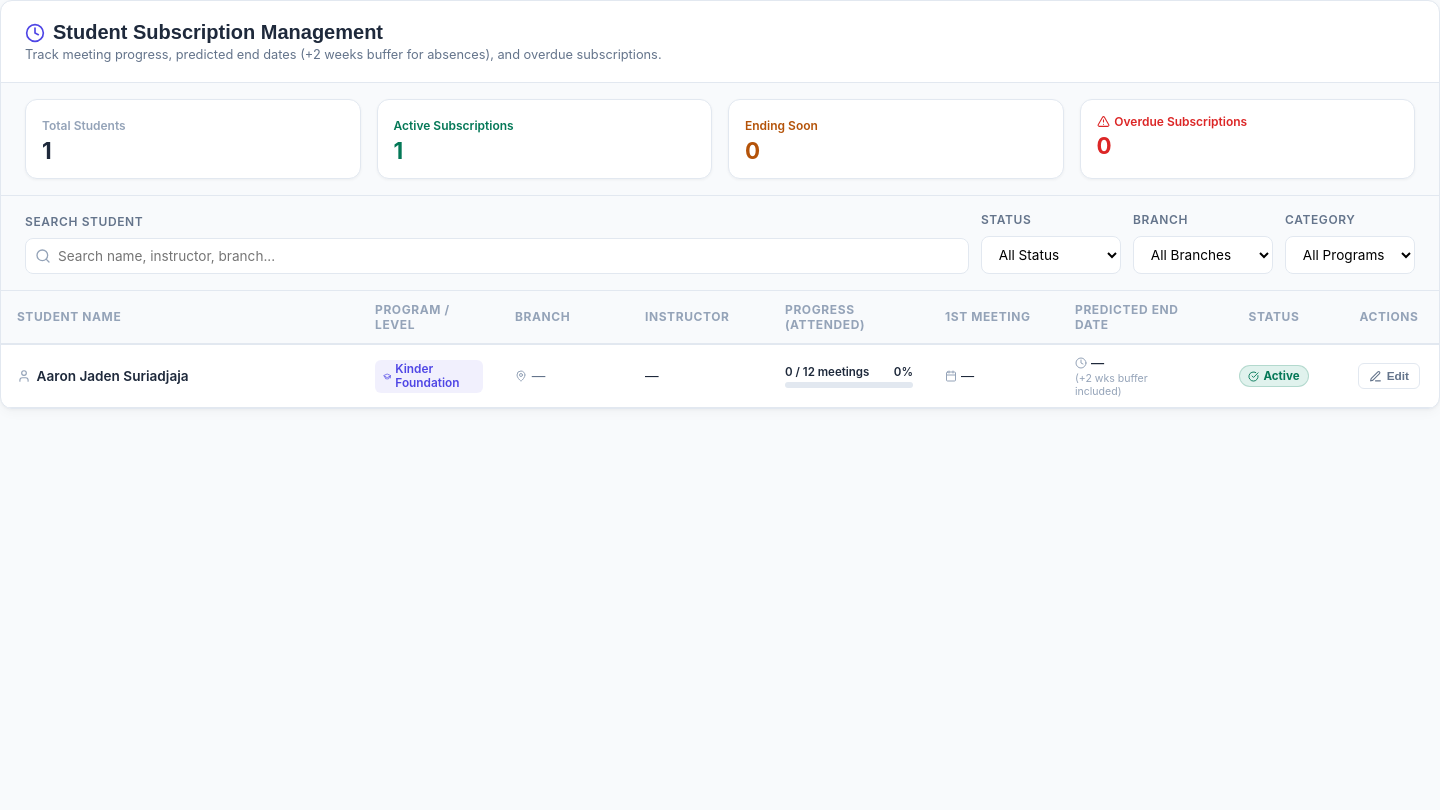
Scenario: NewStudentSubscriptionsPage — Academic Term Coverage › renders starting term selector and displays covered terms for Kinder student
The width and height of the screenshot is (1440, 810).
Expected: the text "Aaron Jaden Suriadjaja" is shown, top-left (17, 368), bottom-right (189, 384)
Note: Click Edit button
Click the button titled "Edit Subscription Start Date & Package".
click(1389, 376)  # box top-left (1358, 363), bottom-right (1420, 389)
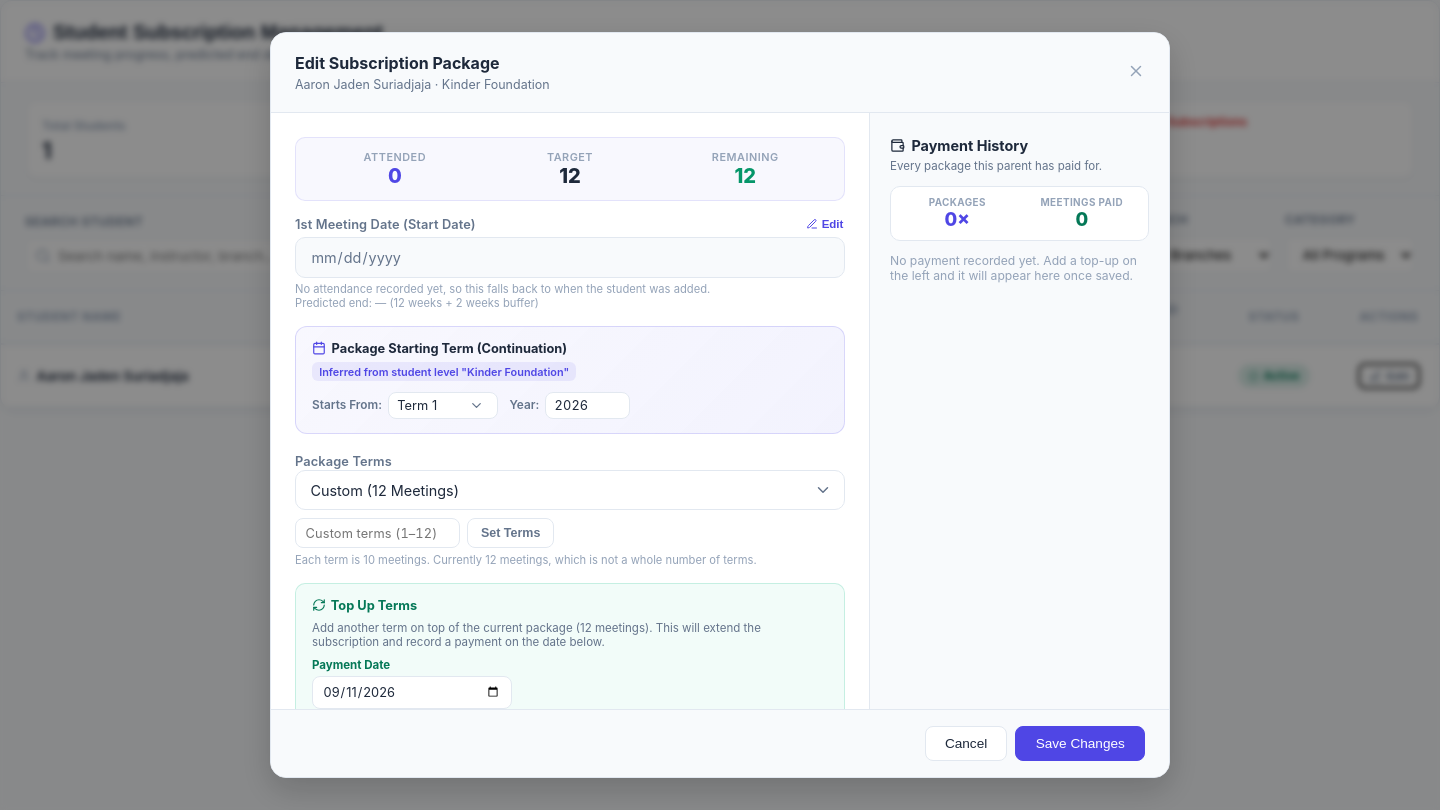
Now the heading "Edit Subscription Package" is shown, box top-left (295, 53), bottom-right (500, 73)
Now the text "Package Starting Term (Continuation)" is shown, box top-left (332, 341), bottom-right (567, 356)
Now the dropdown labelled "Starts From:" is shown
Note: Change starting term to Term 3
Select "Term 3" in the dropdown labelled "Starts From:" at (442,405), box top-left (388, 392), bottom-right (498, 419)
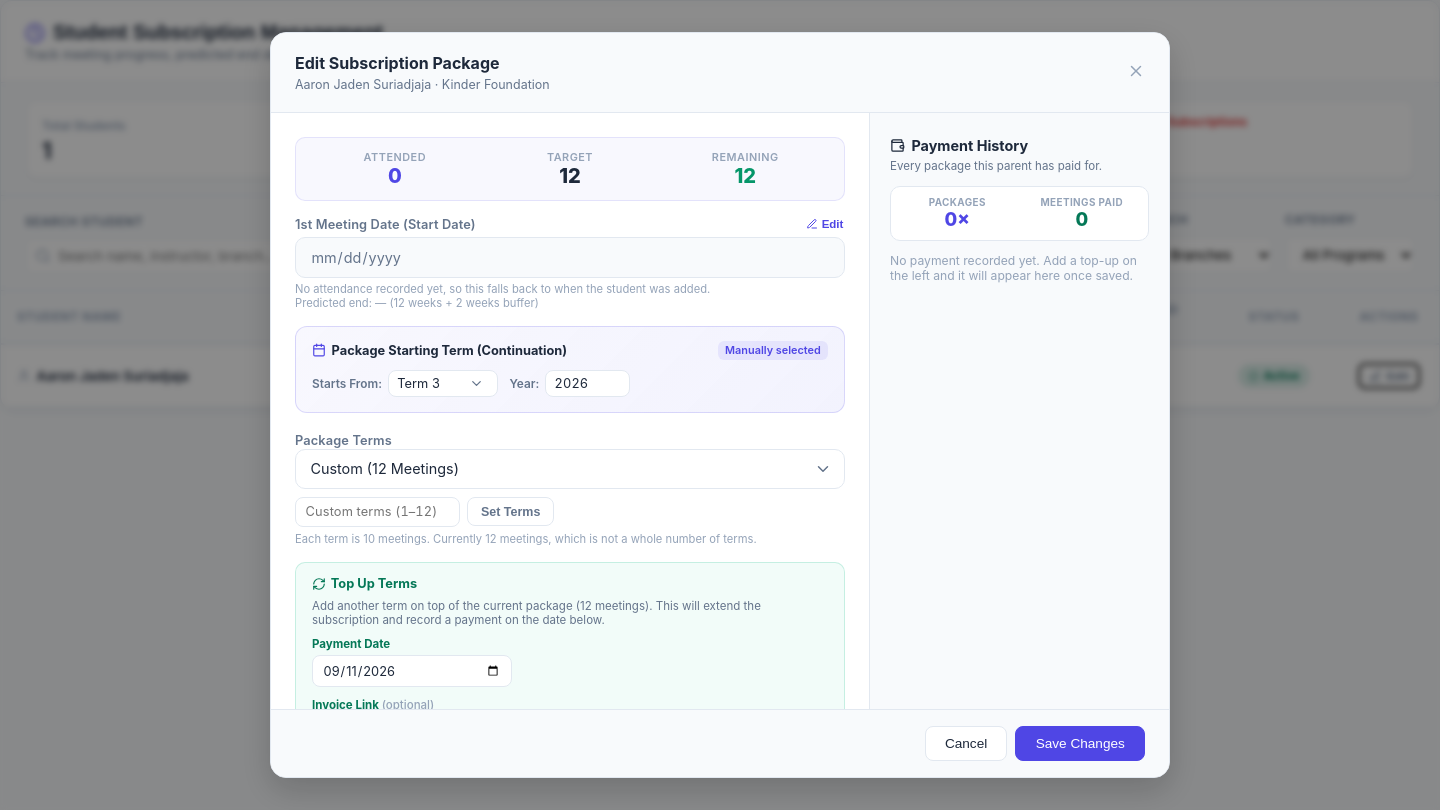
Note: Set package terms to 2 Terms (20 Meetings)
Select "2 Terms (20 Meetings) — Covers Term 3 & Term 4 (2026)" in the dropdown labelled "Package Terms" at (570,469), box top-left (295, 449), bottom-right (845, 488)
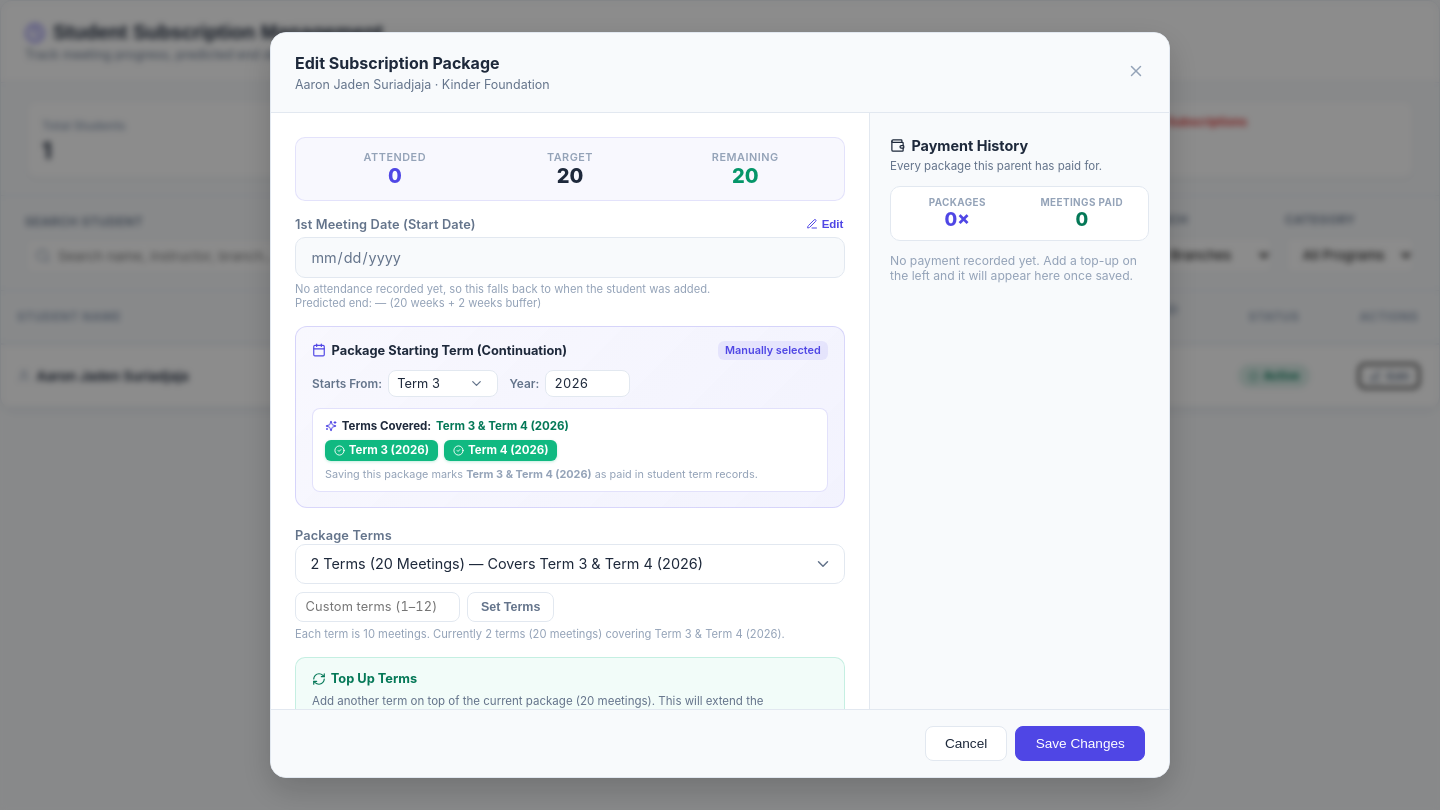
Now the text "Term 3 & Term 4 (2026)" next to "Terms Covered:" is shown, box top-left (436, 419), bottom-right (569, 433)
Now the text "Term 3 (2026)" is shown, box top-left (325, 440), bottom-right (438, 461)
Now the text "Term 4 (2026)" is shown, box top-left (444, 440), bottom-right (557, 461)
